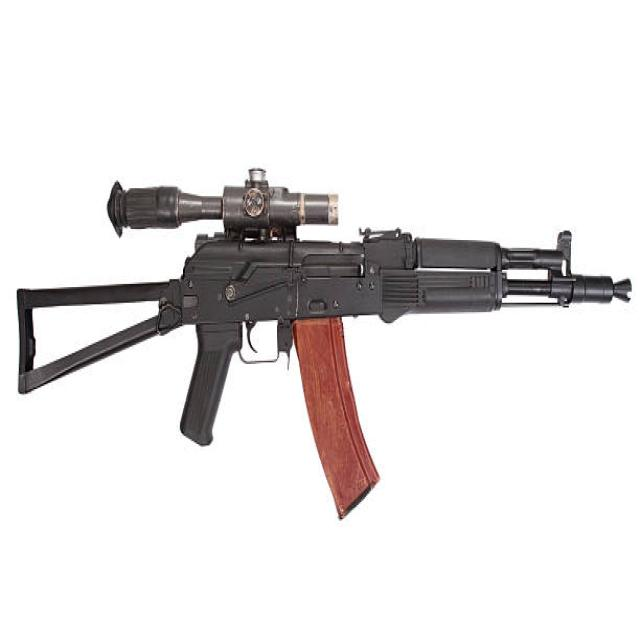rifle: (7, 158, 640, 531)
